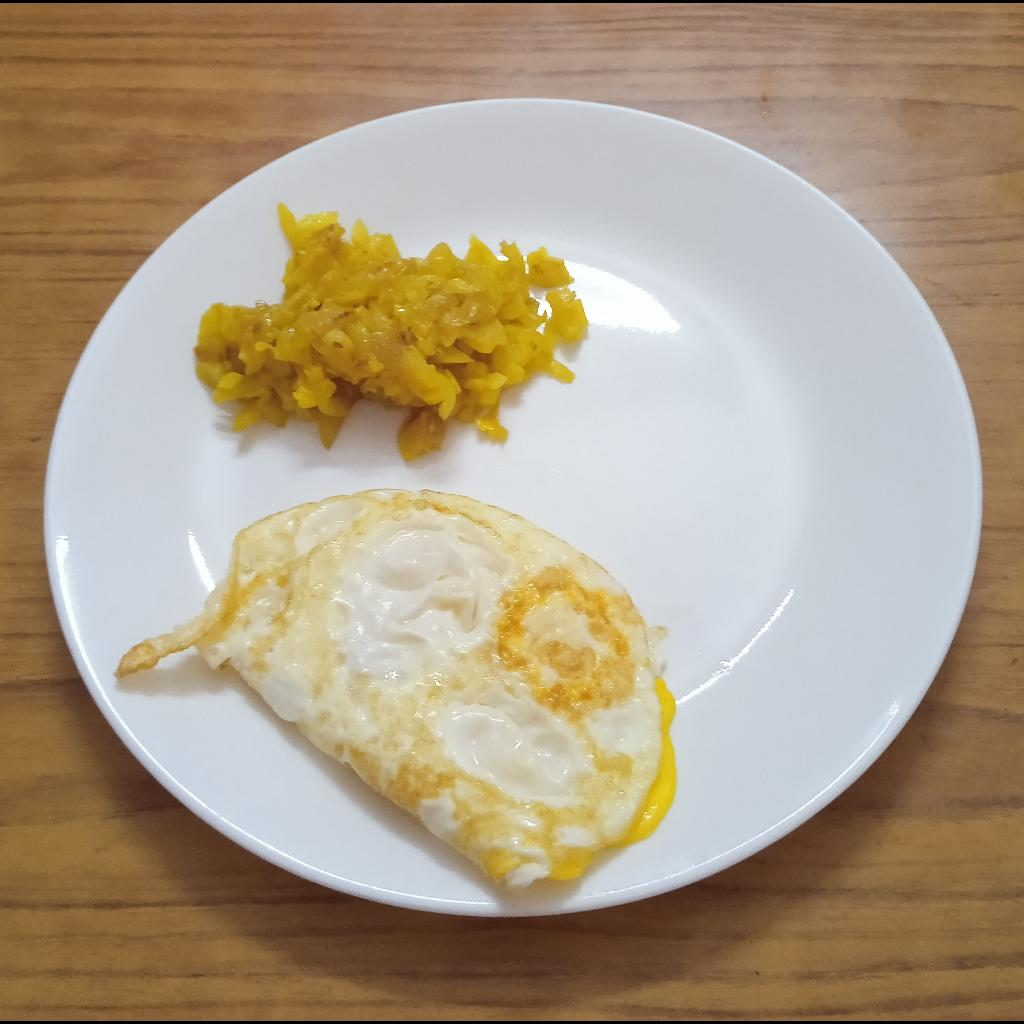egg-poached: (113, 488, 677, 889)
vegetable: (188, 196, 590, 466)
